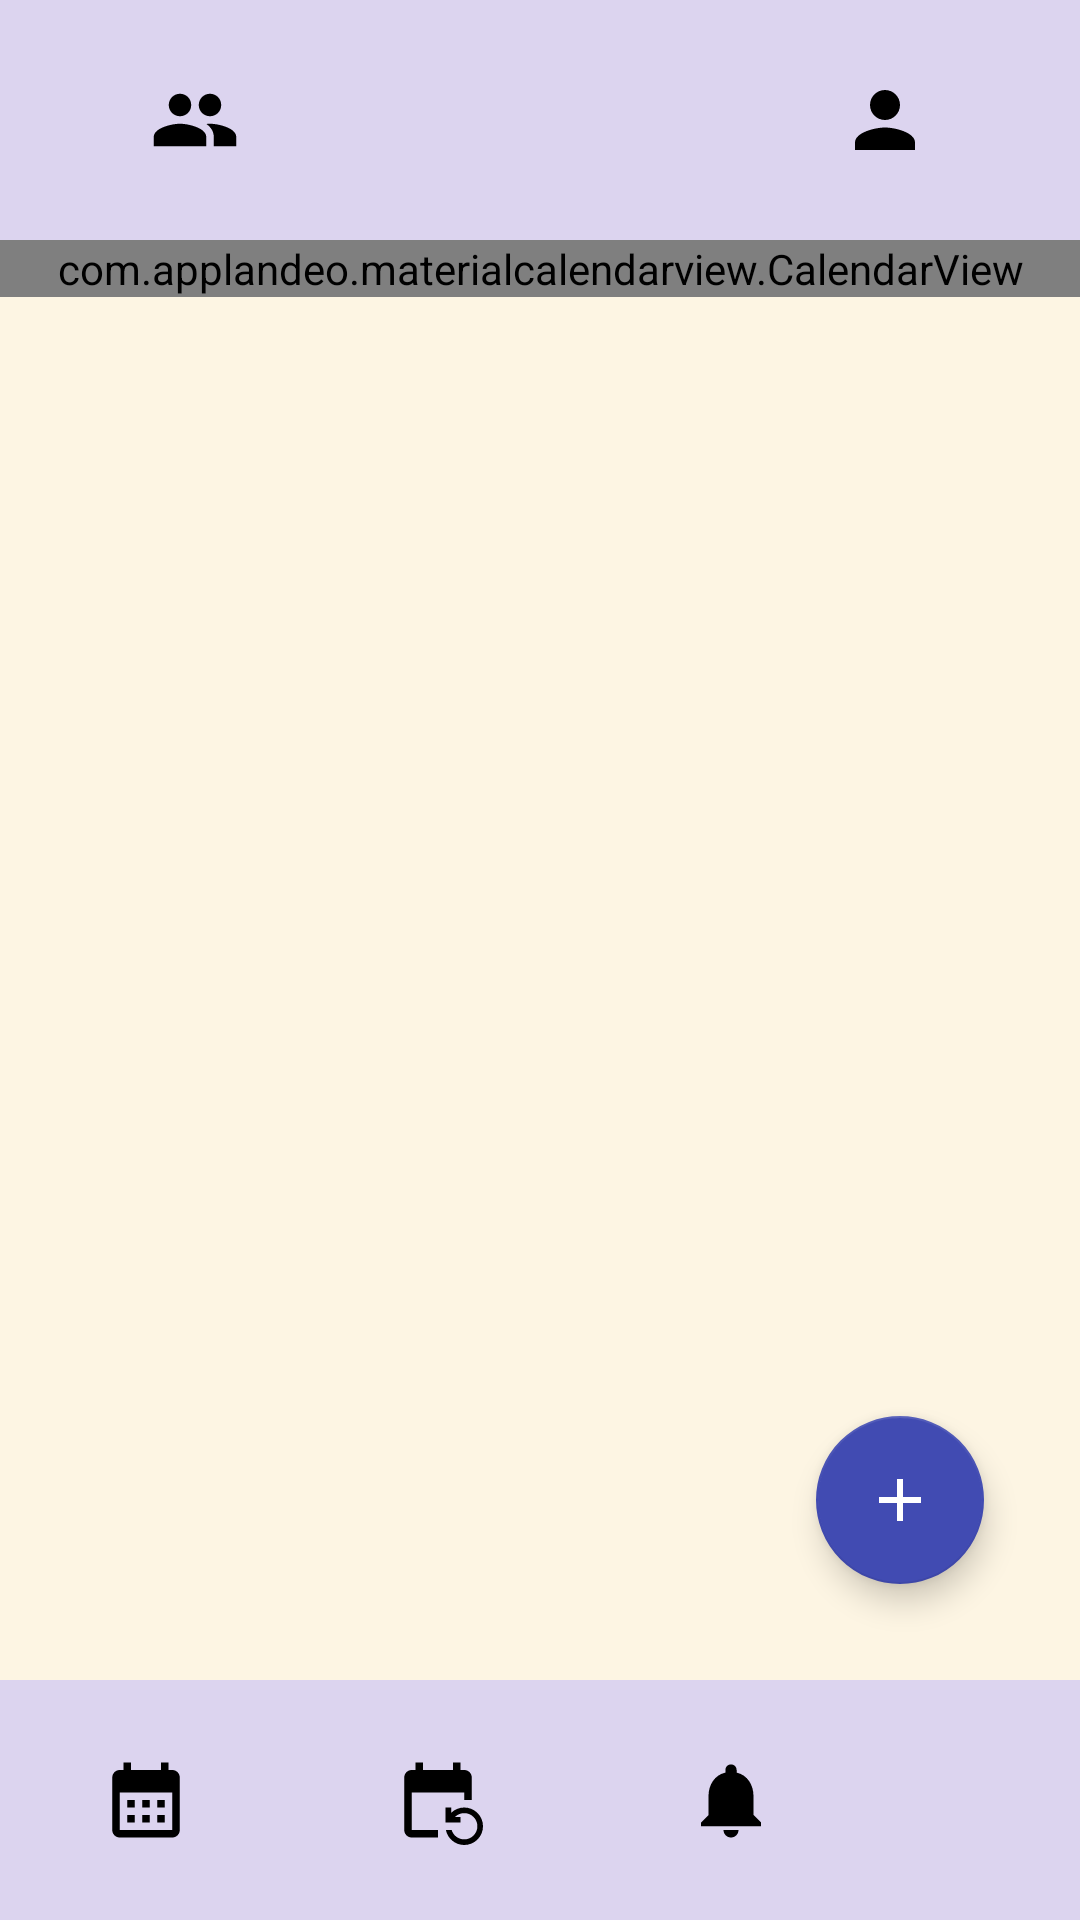

Screen size 1080 × 1920. Icon name, then its center in pixels as point (x, y):
Añadir turno: point (900, 1500)
Calendario: point (146, 1800)
change: point (443, 1803)
group: point (195, 120)
Notificaciones: point (731, 1801)
User: point (885, 120)
